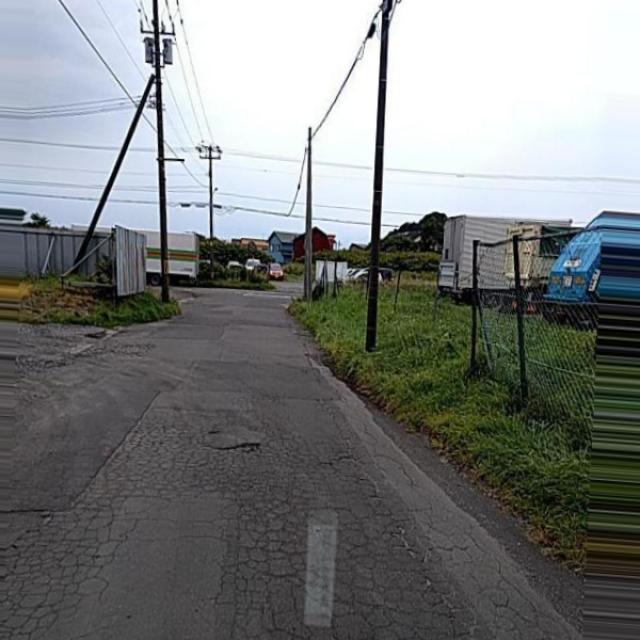Retak Buaya: (0, 426, 477, 640)
